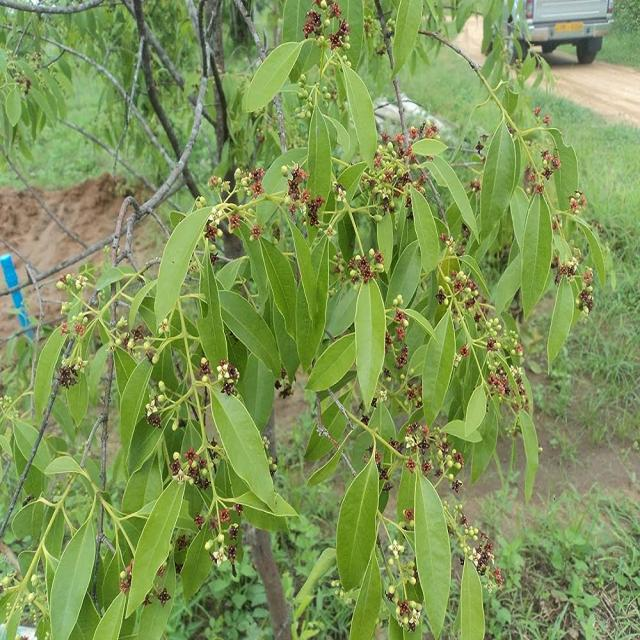Sandalwood: (118, 135, 636, 640), (28, 238, 467, 640), (364, 123, 640, 485), (286, 0, 489, 266), (200, 77, 350, 264)
